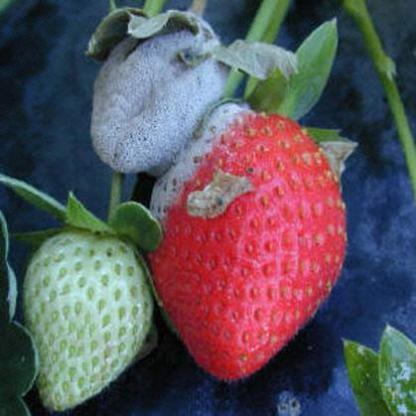Strawberry_Gray_Mold: (83, 8, 233, 178), (150, 101, 298, 236)
